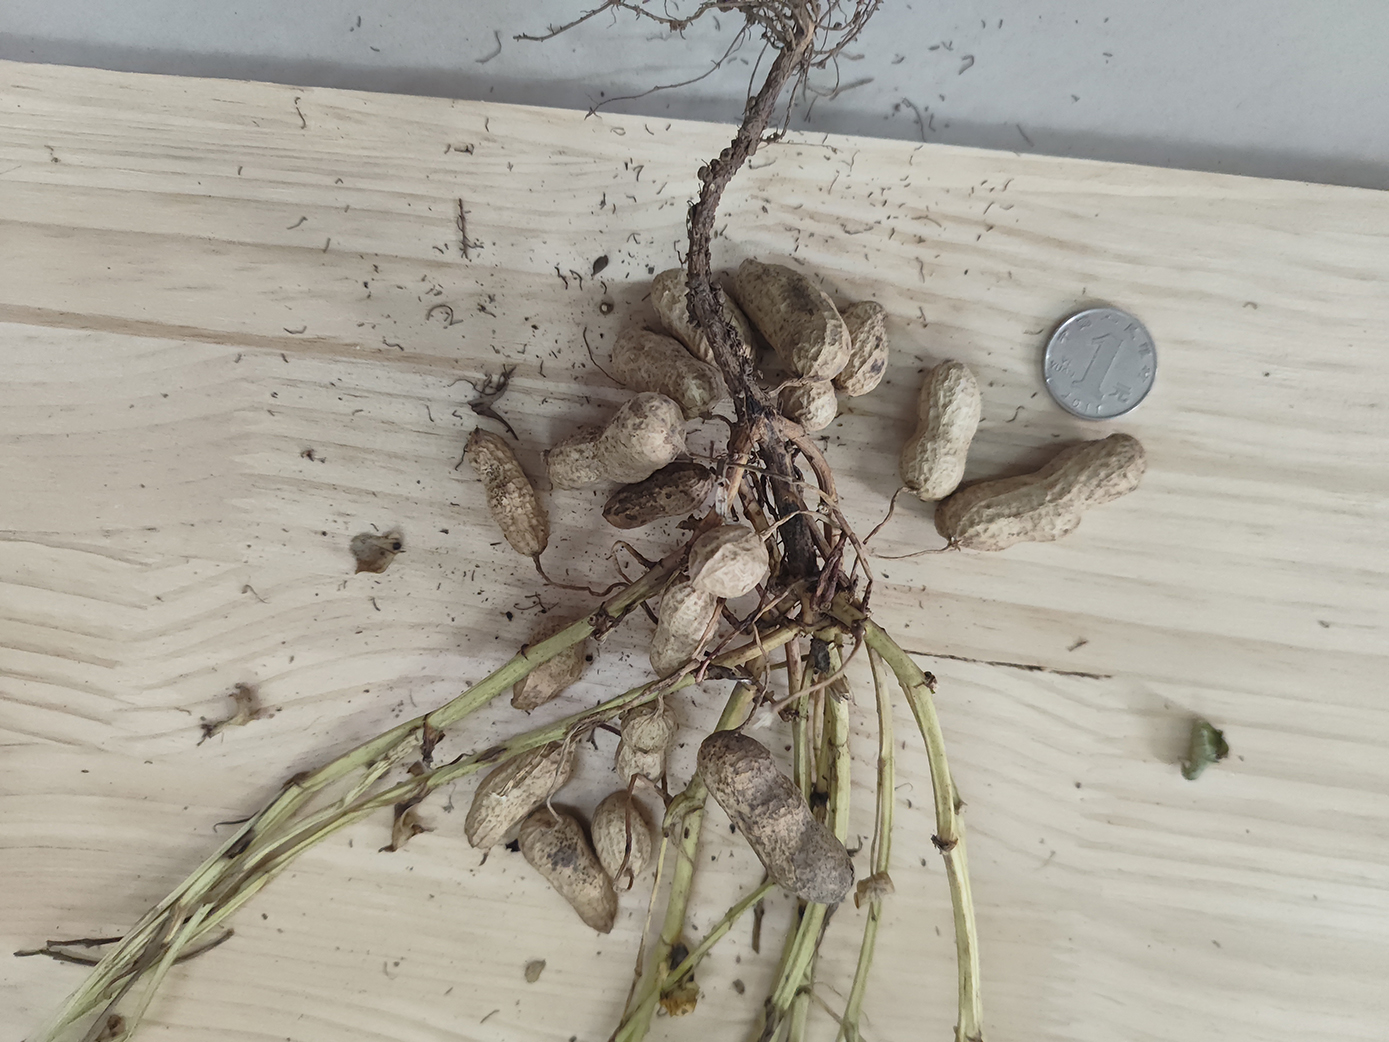h: (934, 435, 1146, 549), (737, 256, 850, 383), (516, 803, 617, 934), (547, 394, 685, 488), (901, 362, 983, 501), (652, 271, 760, 378), (465, 740, 568, 848), (611, 327, 725, 418), (468, 430, 549, 557), (510, 621, 598, 710), (603, 464, 711, 530), (653, 578, 713, 676), (688, 528, 769, 599), (593, 794, 652, 889), (617, 703, 671, 789), (836, 302, 884, 397), (778, 377, 838, 431)
l: (699, 731, 856, 906)
